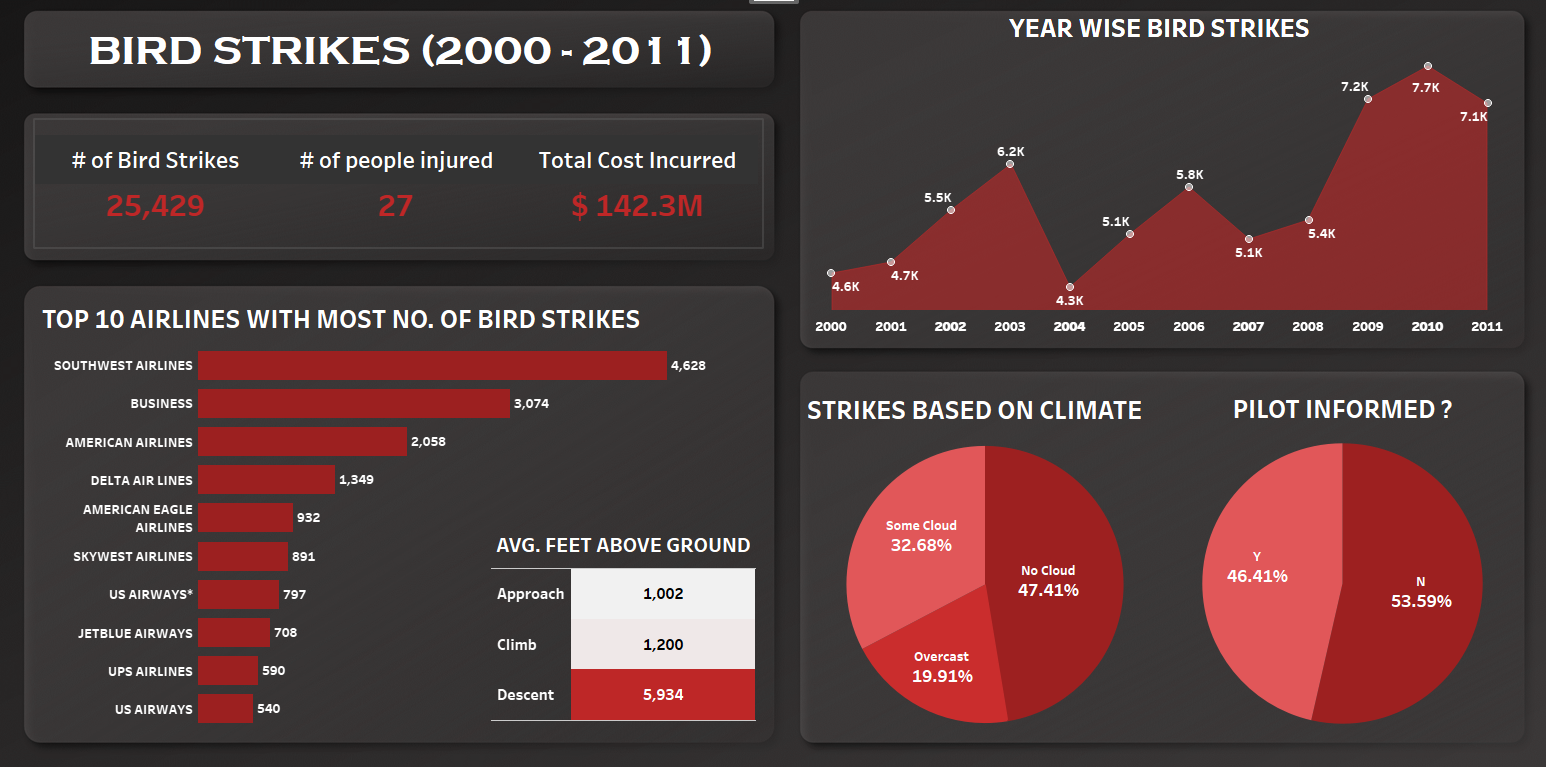

Layout of this report page (visuals, bound fields, positions):
{"tool":"tableau","page":{"name":"Dashboard","canvas":[1600,800],"ordinal":0},"visuals":[{"type":"image","param":"C:/Data Science/Unified Mentor/Projects List/Data Science Projects-20240401T1144","box":[8,8,1584,784]},{"type":"text","box":[57,17,739,98]},{"type":"worksheet","title":"Sheet 2 (2)","mark":"Circle","rows":[" Number Struck Actual"],"cols":["FlightDate"],"box":[821,21,729,334]},{"type":"worksheet","title":"Sheet 2","mark":"Area","rows":[" Number Struck Actual"],"cols":["FlightDate"],"box":[825,21,721,334]},{"type":"worksheet","title":"Sheet 1","mark":"Automatic","box":[61,135,727,127]},{"type":"worksheet","title":"Sheet 3","mark":"Automatic","rows":[" Airline/Operator"],"cols":[" Number struck"],"box":[64,312,697,431]},{"type":"worksheet","title":"Sheet 6 (4)","mark":"Pie","box":[1187,402,363,344]},{"type":"worksheet","title":"Sheet 6 (3)","mark":"Pie","box":[829,403,364,344]},{"type":"worksheet","title":"Sheet 9","mark":"Square","rows":[" Phase of flight"],"box":[517,541,265,195]}]}

Visuals, with their boxes in screenshot pixels (x1, y1, x2, y2), scaled from the page's 1600x800 canvas onto the 1546x767 screenshot:
image: bbox=(8, 8, 1538, 759)
text: bbox=(55, 16, 769, 110)
"Sheet 2 (2)" worksheet (Circle marks): bbox=(793, 20, 1498, 340)
"Sheet 2" worksheet (Area marks): bbox=(797, 20, 1494, 340)
"Sheet 1" worksheet: bbox=(59, 129, 761, 251)
"Sheet 3" worksheet: bbox=(62, 299, 735, 712)
"Sheet 6 (4)" worksheet (Pie marks): bbox=(1147, 385, 1498, 715)
"Sheet 6 (3)" worksheet (Pie marks): bbox=(801, 386, 1153, 716)
"Sheet 9" worksheet (Square marks): bbox=(500, 519, 756, 706)
